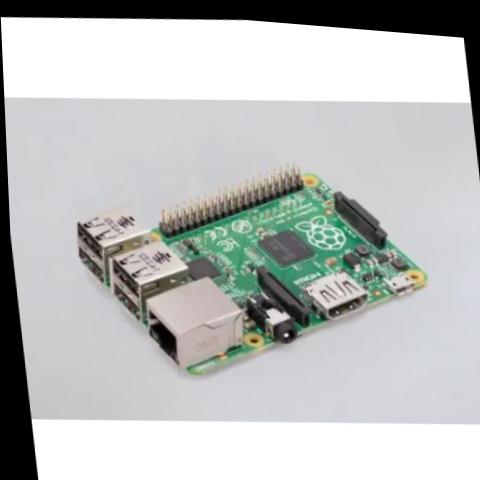Raspberry-Pi-1-Model-B-: (60, 128, 442, 405)
